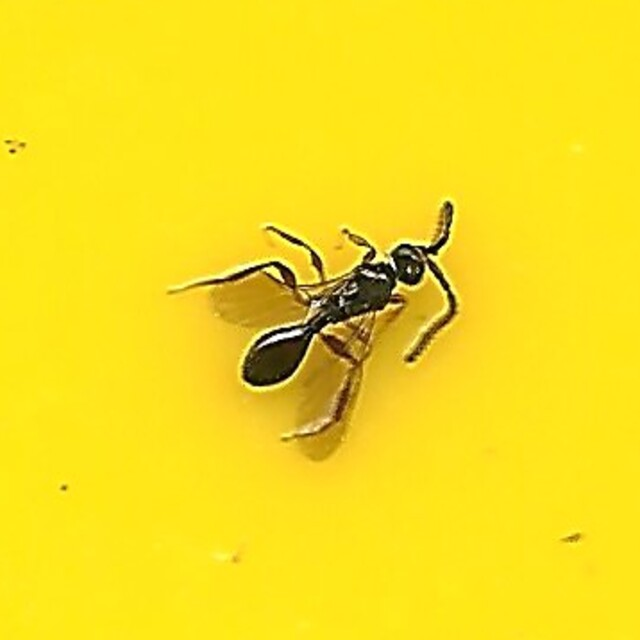Hymenoptera: (179, 195, 461, 445)
